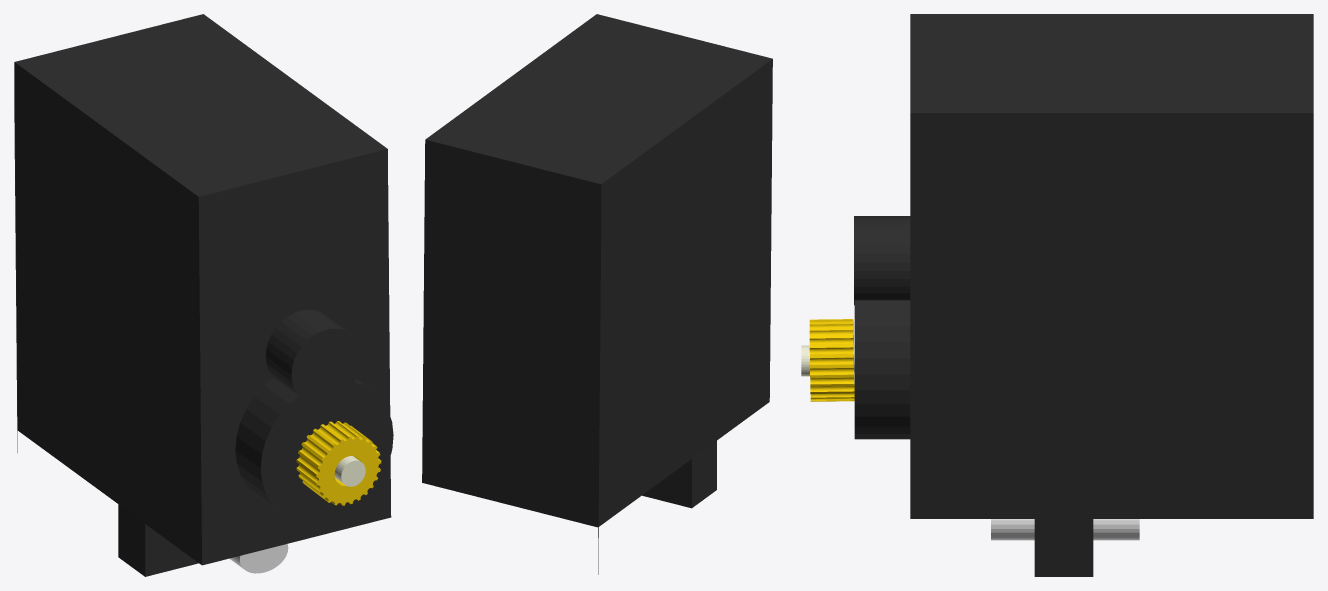
The model's file is ServoMotor.fbx.
3 views of the same model, side by side, from view 1: azimuth 30°, elevation 25°; view 2: azimuth 150°, elevation 25°; view 3: azimuth 270°, elevation 25° (orthographic). The views are drawn at different scales.
Parts seen in each view (by area): view 1: Cylinder.001, ServoGear1.001, Cylinder, ServoGearStand; view 2: Cylinder.001; view 3: Cylinder.001, ServoGear1.001, Cylinder.
Boxes of the visible parts, <box> form: Cylinder.001: <box>14,14,393,576</box>; ServoGear1.001: <box>296,421,381,505</box>; Cylinder: <box>229,544,288,573</box>; ServoGearStand: <box>334,456,365,486</box>; Cylinder.001: <box>422,14,772,574</box>; Cylinder.001: <box>854,14,1313,576</box>; ServoGear1.001: <box>809,319,854,401</box>; Cylinder: <box>991,519,1139,540</box>.
Bounding box in the file's own units: 1359 × 2899 × 2866.
